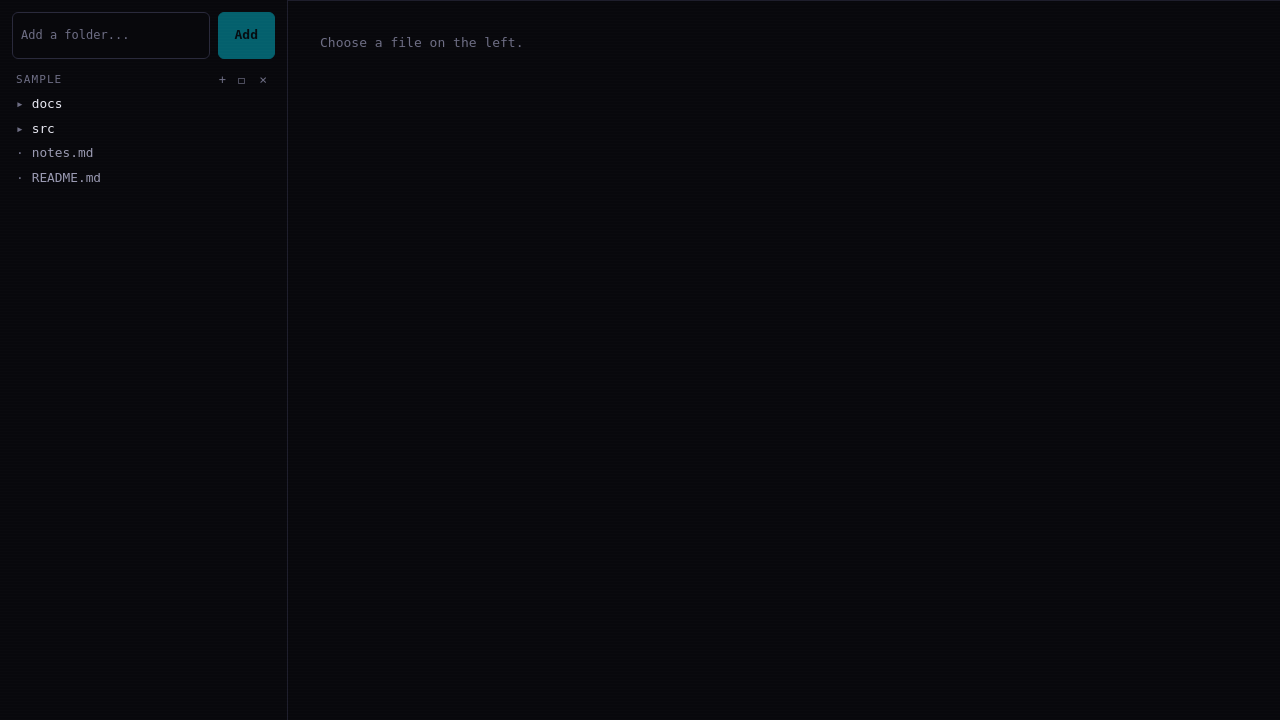
it: making, renaming and removing › refuses a name that is already taken rather than erasing it
Expected: the button "· README.md" is shown, 8,166 -> 279,190
Step 1. Click the button named "New file in sample" → [222, 80], box 217,74 -> 228,86
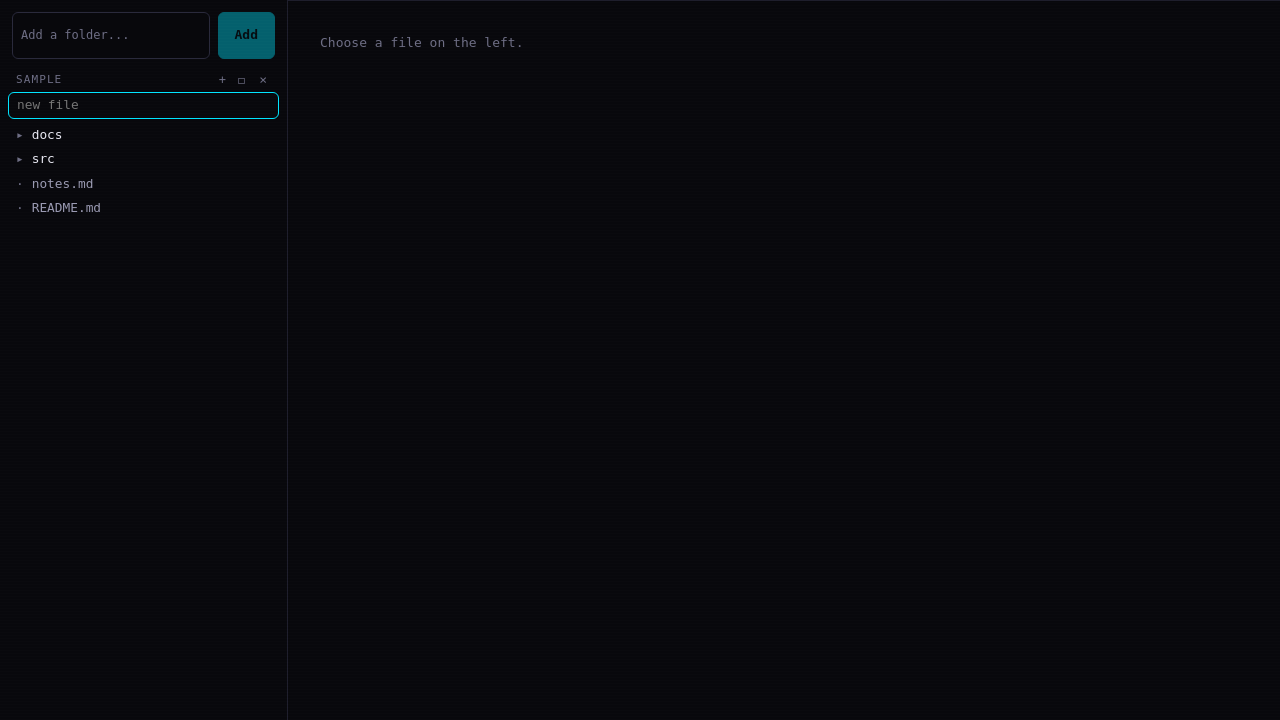
Step 2. Type "README.md" into the field labelled "new file" → [144, 106], box 8,92 -> 279,119
Then press Enter
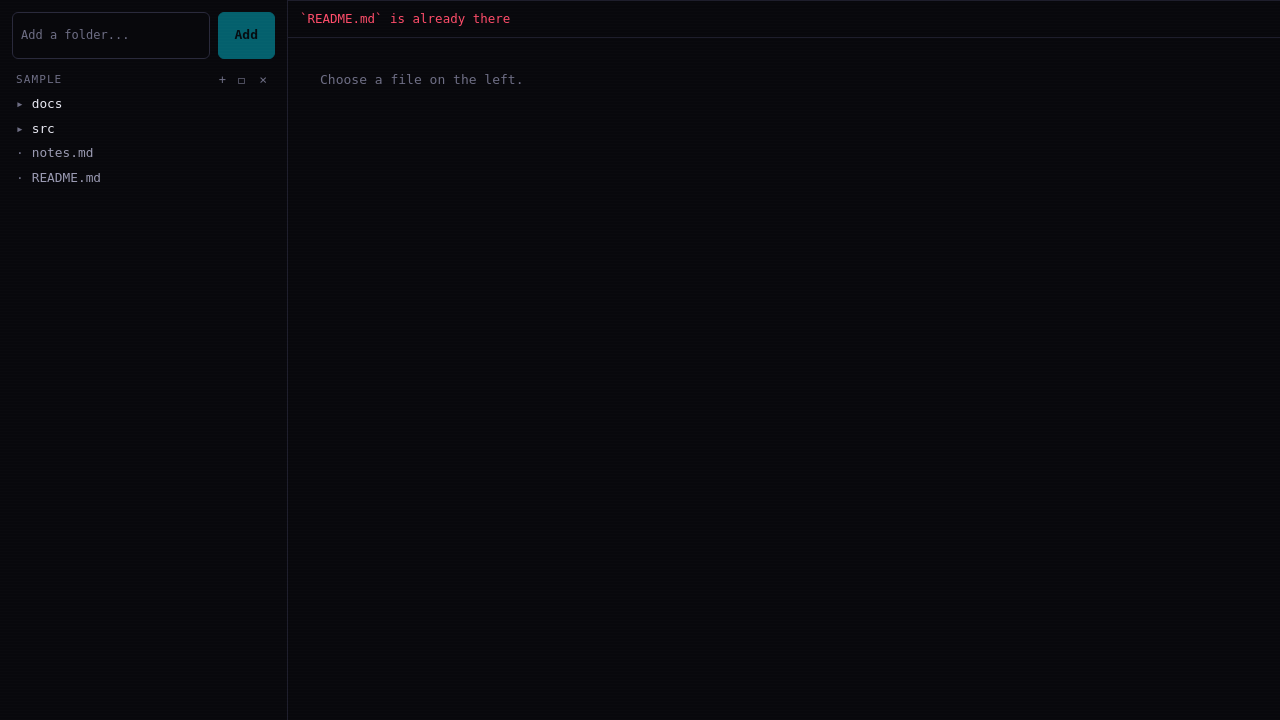
Expected: the message shows "already there", 300,11 -> 510,26
